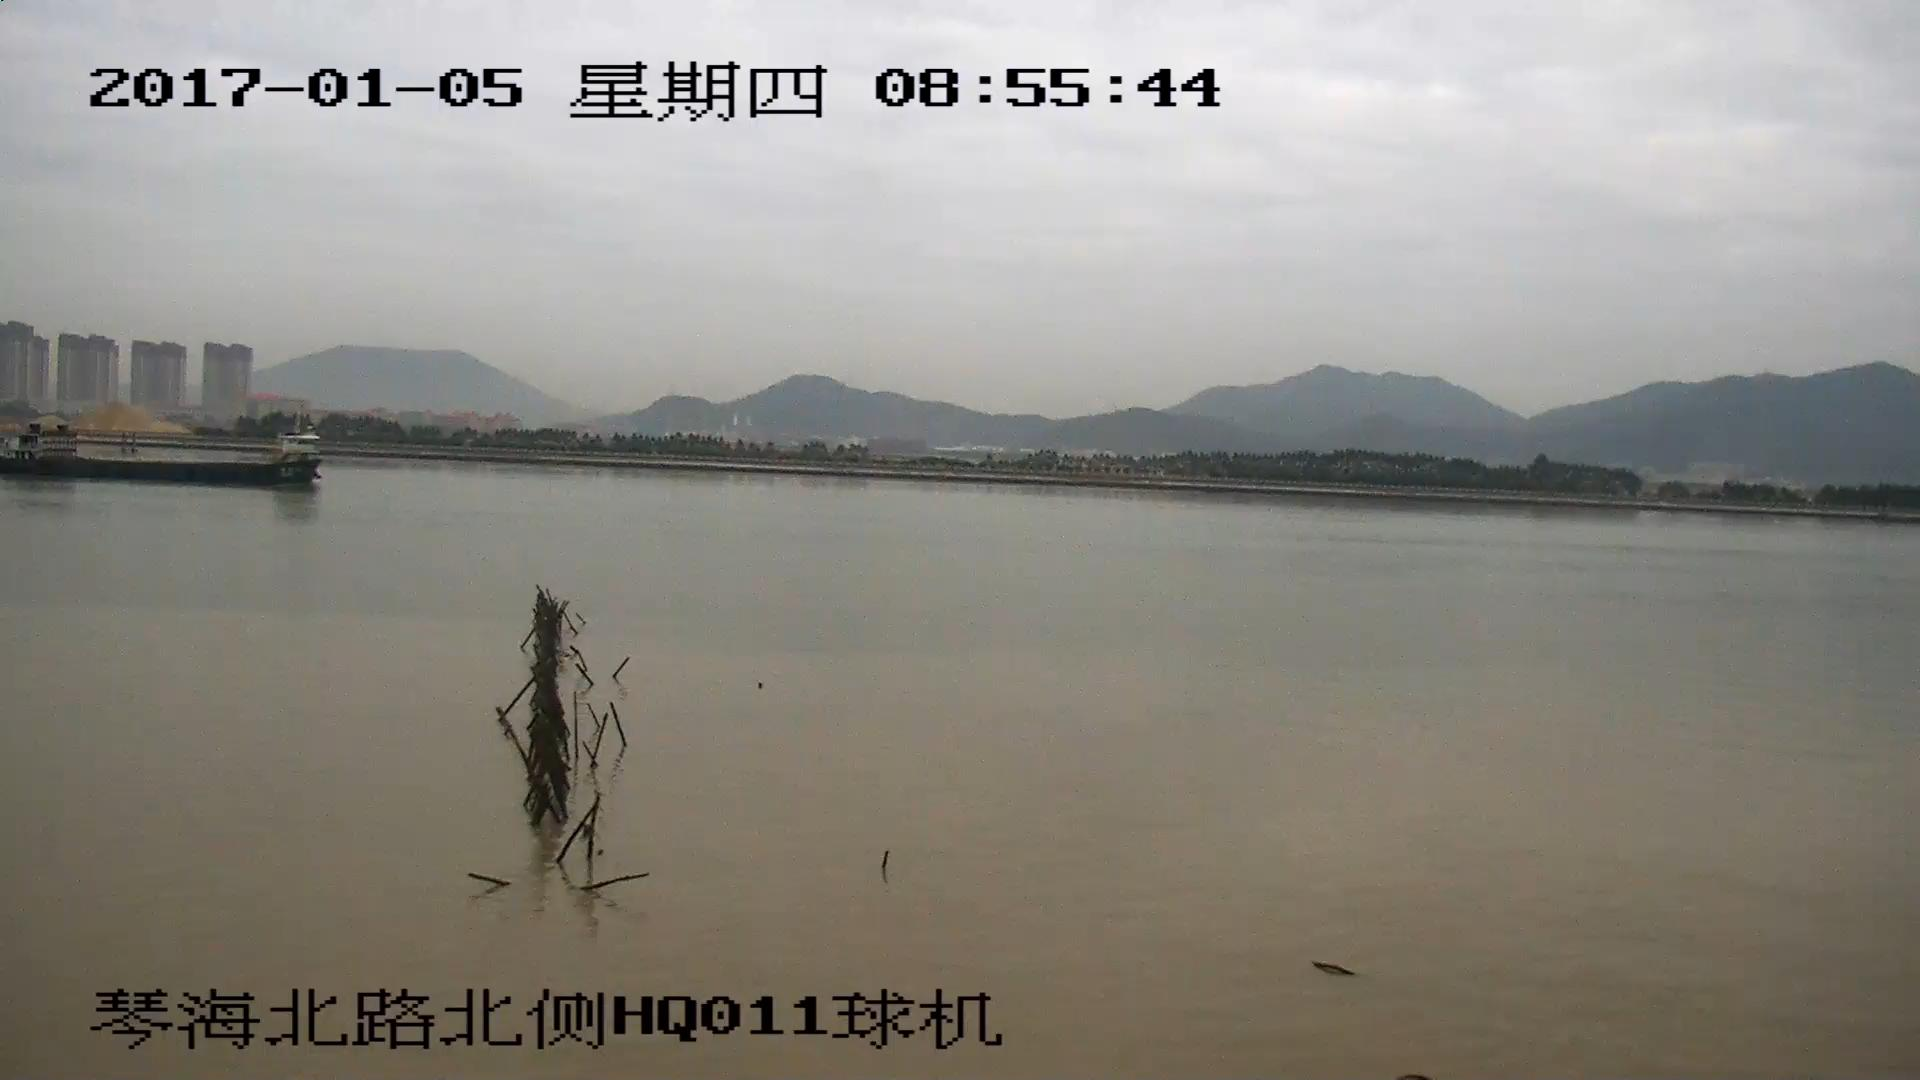general cargo ship: (1, 421, 321, 484)
